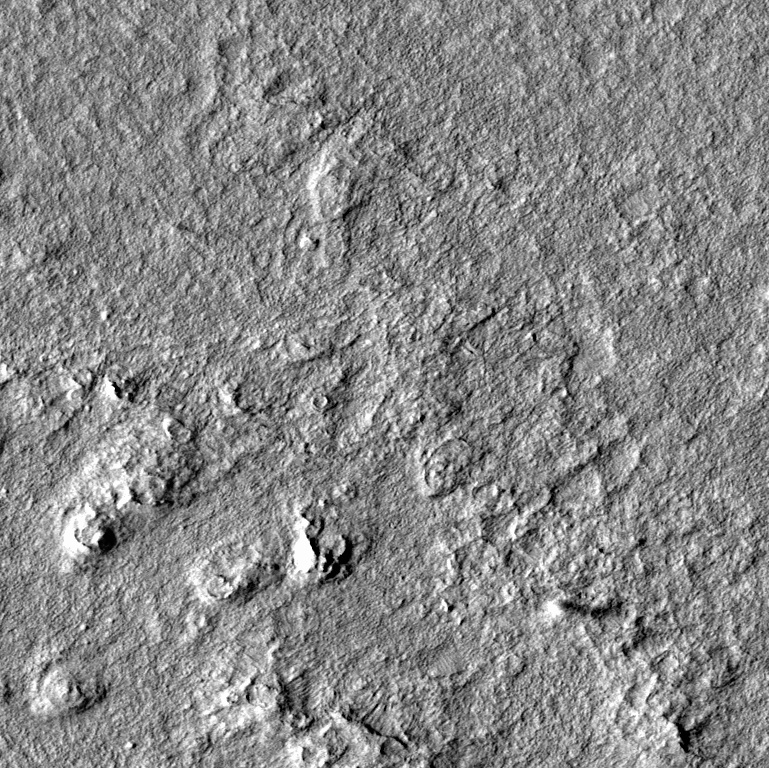dust_devil: (545, 597, 623, 622)
